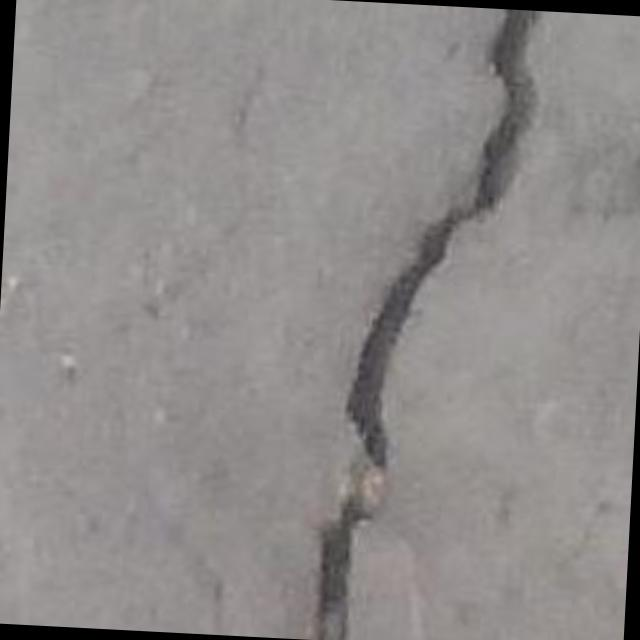crack: (316, 9, 540, 639)
